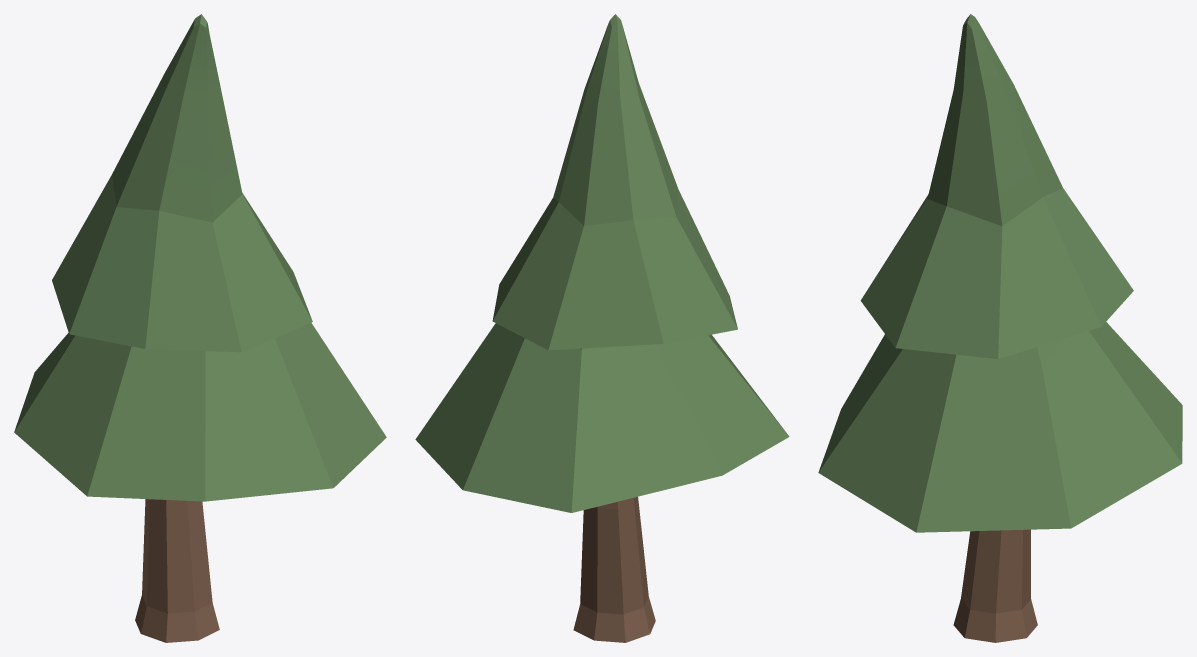
File: Pine_Trees_Pack_Pine_01.001.fbx
3 renders of one model, left to right at view 1: azimuth 30°, elevation 25°; view 2: azimuth 150°, elevation 25°; view 3: azimuth 270°, elevation 25°, orthographic. The views are drawn at different scales.
Parts seen in each view (by area): view 1: Pine_Trees_Pack_Pine_01.001; view 2: Pine_Trees_Pack_Pine_01.001; view 3: Pine_Trees_Pack_Pine_01.001.
Boxes of the visible parts, x1=… form: Pine_Trees_Pack_Pine_01.001: x1=14, y1=14, x2=386, y2=642; Pine_Trees_Pack_Pine_01.001: x1=415, y1=14, x2=789, y2=642; Pine_Trees_Pack_Pine_01.001: x1=818, y1=14, x2=1182, y2=642.
Bounding box in the file's own units: 122 × 234 × 125.
